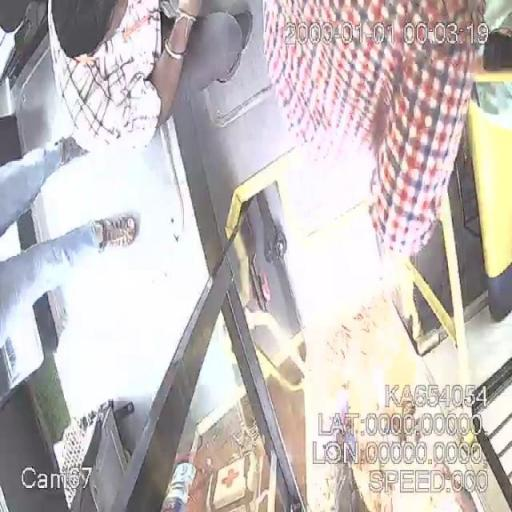persona: (260, 0, 490, 268), (54, 0, 234, 162)
